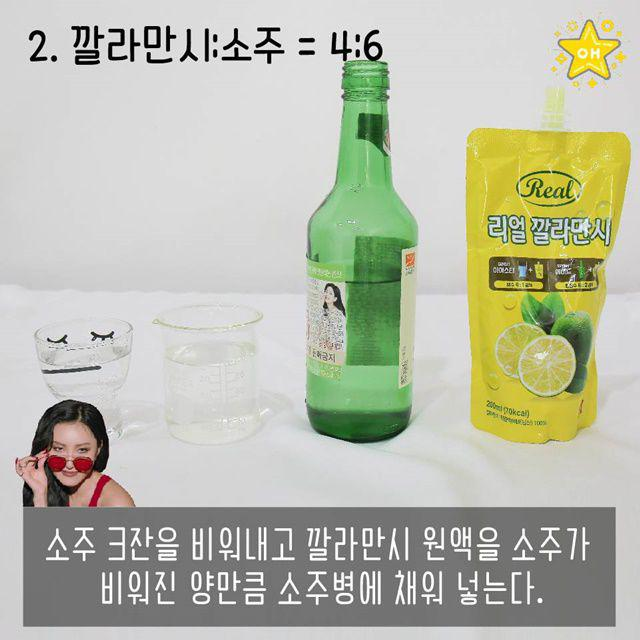soju: (295, 58, 428, 444)
